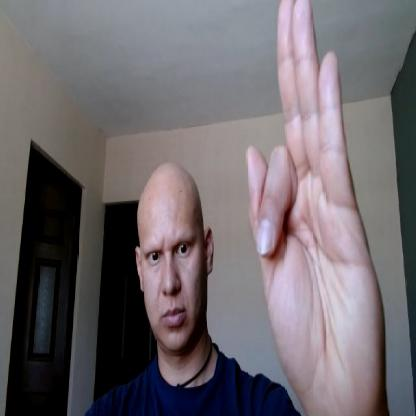F: (246, 0, 382, 415)
